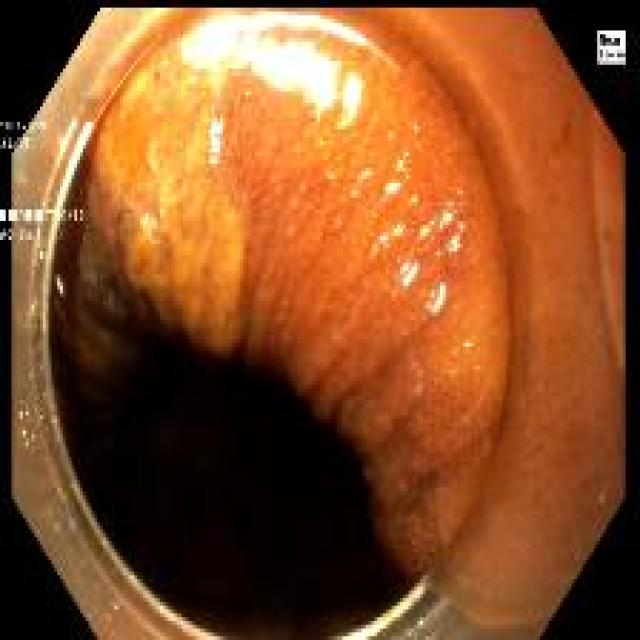color misalignment: (1, 211, 83, 224), (597, 30, 625, 65), (1, 120, 45, 133), (1, 139, 29, 152), (19, 229, 41, 241), (1, 230, 13, 242)
contrast: (73, 336, 396, 636)
saturation: (181, 14, 384, 119)
specularity: (49, 125, 94, 256), (343, 593, 424, 640), (53, 121, 77, 186), (344, 74, 364, 120), (210, 121, 223, 155), (433, 288, 445, 315), (404, 267, 418, 287), (440, 215, 453, 229), (386, 185, 401, 194), (56, 279, 63, 296), (359, 172, 372, 181), (393, 227, 404, 237), (396, 162, 405, 173), (209, 158, 219, 167), (421, 228, 429, 239), (452, 240, 459, 252), (401, 266, 410, 275), (379, 236, 389, 244), (340, 120, 348, 128), (459, 224, 463, 232), (412, 198, 418, 202)
